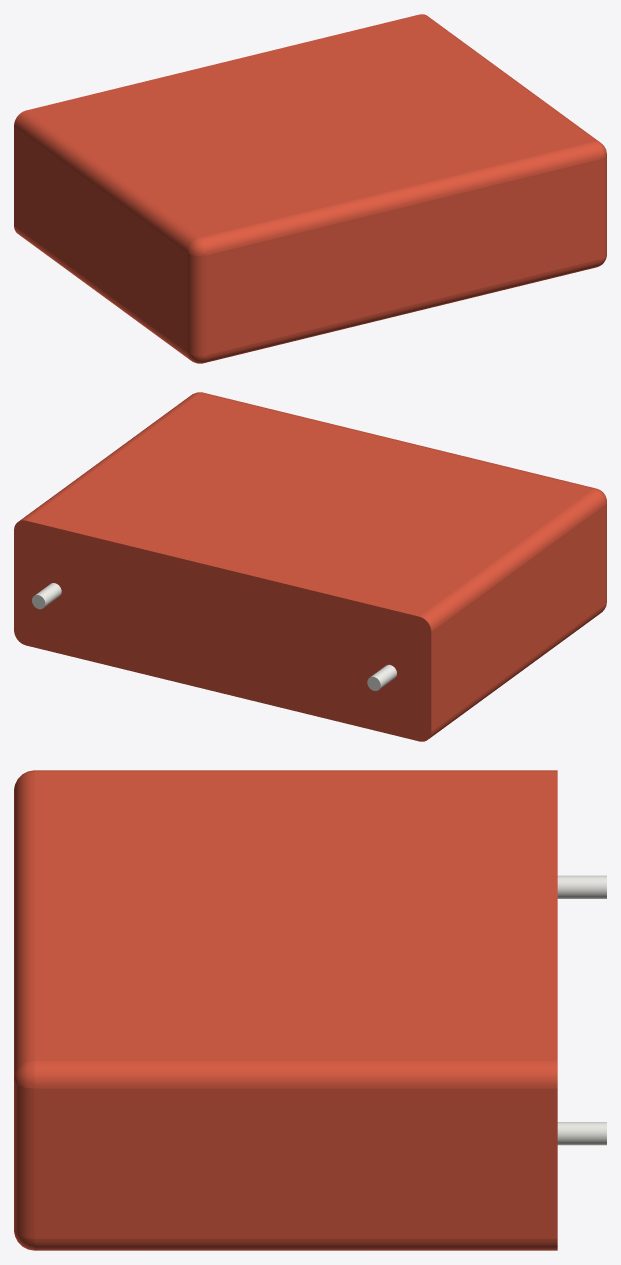
Rendered from C_Rect_L28.0mm_W8.0mm_P22.50mm_MKS4.glb.
3 renders of one model, top to bottom at view 1: azimuth 30°, elevation 25°; view 2: azimuth 150°, elevation 25°; view 3: azimuth 270°, elevation 25°, orthographic. The views are drawn at different scales.
Parts seen in each view (by area): view 1: Shape_IndexedFaceSet.009, Shape_IndexedFaceSet.008, Shape_IndexedFaceSet, Shape_IndexedFaceSet.016, Shape_IndexedFaceSet.004, Shape_IndexedFaceSet.015, Shape_IndexedFaceSet.002, Shape_IndexedFaceSet.001, Shape_IndexedFaceSet.011, Shape_IndexedFaceSet.017; view 2: Shape_IndexedFaceSet.009, Shape_IndexedFaceSet.003, Shape_IndexedFaceSet, Shape_IndexedFaceSet.004, Shape_IndexedFaceSet.001, Shape_IndexedFaceSet.016, Shape_IndexedFaceSet.011; view 3: Shape_IndexedFaceSet.009, Shape_IndexedFaceSet.012, Shape_IndexedFaceSet.011, Shape_IndexedFaceSet.010, Shape_IndexedFaceSet.016, Shape_IndexedFaceSet.017, Shape_IndexedFaceSet.013, Shape_IndexedFaceSet.014, Shape_IndexedFaceSet.004.
Part boxes in pixels (x1,y1,x2,y2): Shape_IndexedFaceSet.009: (26,14,592,237); Shape_IndexedFaceSet.008: (206,159,599,354); Shape_IndexedFaceSet: (14,126,187,352); Shape_IndexedFaceSet.016: (200,142,599,254); Shape_IndexedFaceSet.004: (14,110,199,252); Shape_IndexedFaceSet.015: (204,259,599,362); Shape_IndexedFaceSet.002: (188,253,206,355); Shape_IndexedFaceSet.001: (14,226,189,359); Shape_IndexedFaceSet.011: (420,14,599,142); Shape_IndexedFaceSet.017: (600,155,606,258); Shape_IndexedFaceSet.009: (26,393,592,616); Shape_IndexedFaceSet.003: (14,520,431,741); Shape_IndexedFaceSet: (431,505,605,731); Shape_IndexedFaceSet.004: (420,489,605,631); Shape_IndexedFaceSet.001: (429,605,604,738); Shape_IndexedFaceSet.016: (200,392,595,489); Shape_IndexedFaceSet.011: (19,393,199,521); Shape_IndexedFaceSet.009: (34,772,557,1060); Shape_IndexedFaceSet.012: (34,1088,557,1238); Shape_IndexedFaceSet.011: (34,1061,557,1088); Shape_IndexedFaceSet.010: (34,1238,557,1250); Shape_IndexedFaceSet.016: (14,772,34,1077); Shape_IndexedFaceSet.017: (14,1080,34,1238); Shape_IndexedFaceSet.013: (557,875,606,898); Shape_IndexedFaceSet.014: (557,1122,606,1145); Shape_IndexedFaceSet.004: (34,770,557,771).
Size of the model in its own units: 11.02 by 3.15 by 9.02.
